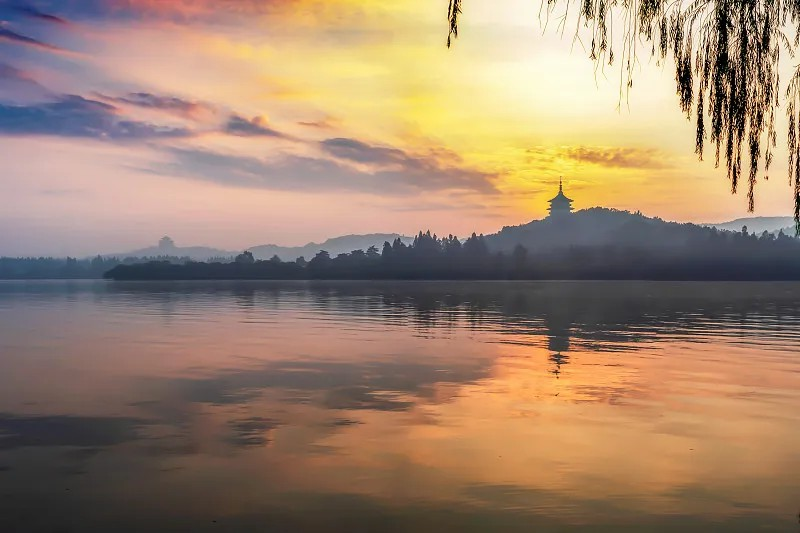Leifeng: (544, 176, 575, 223)
